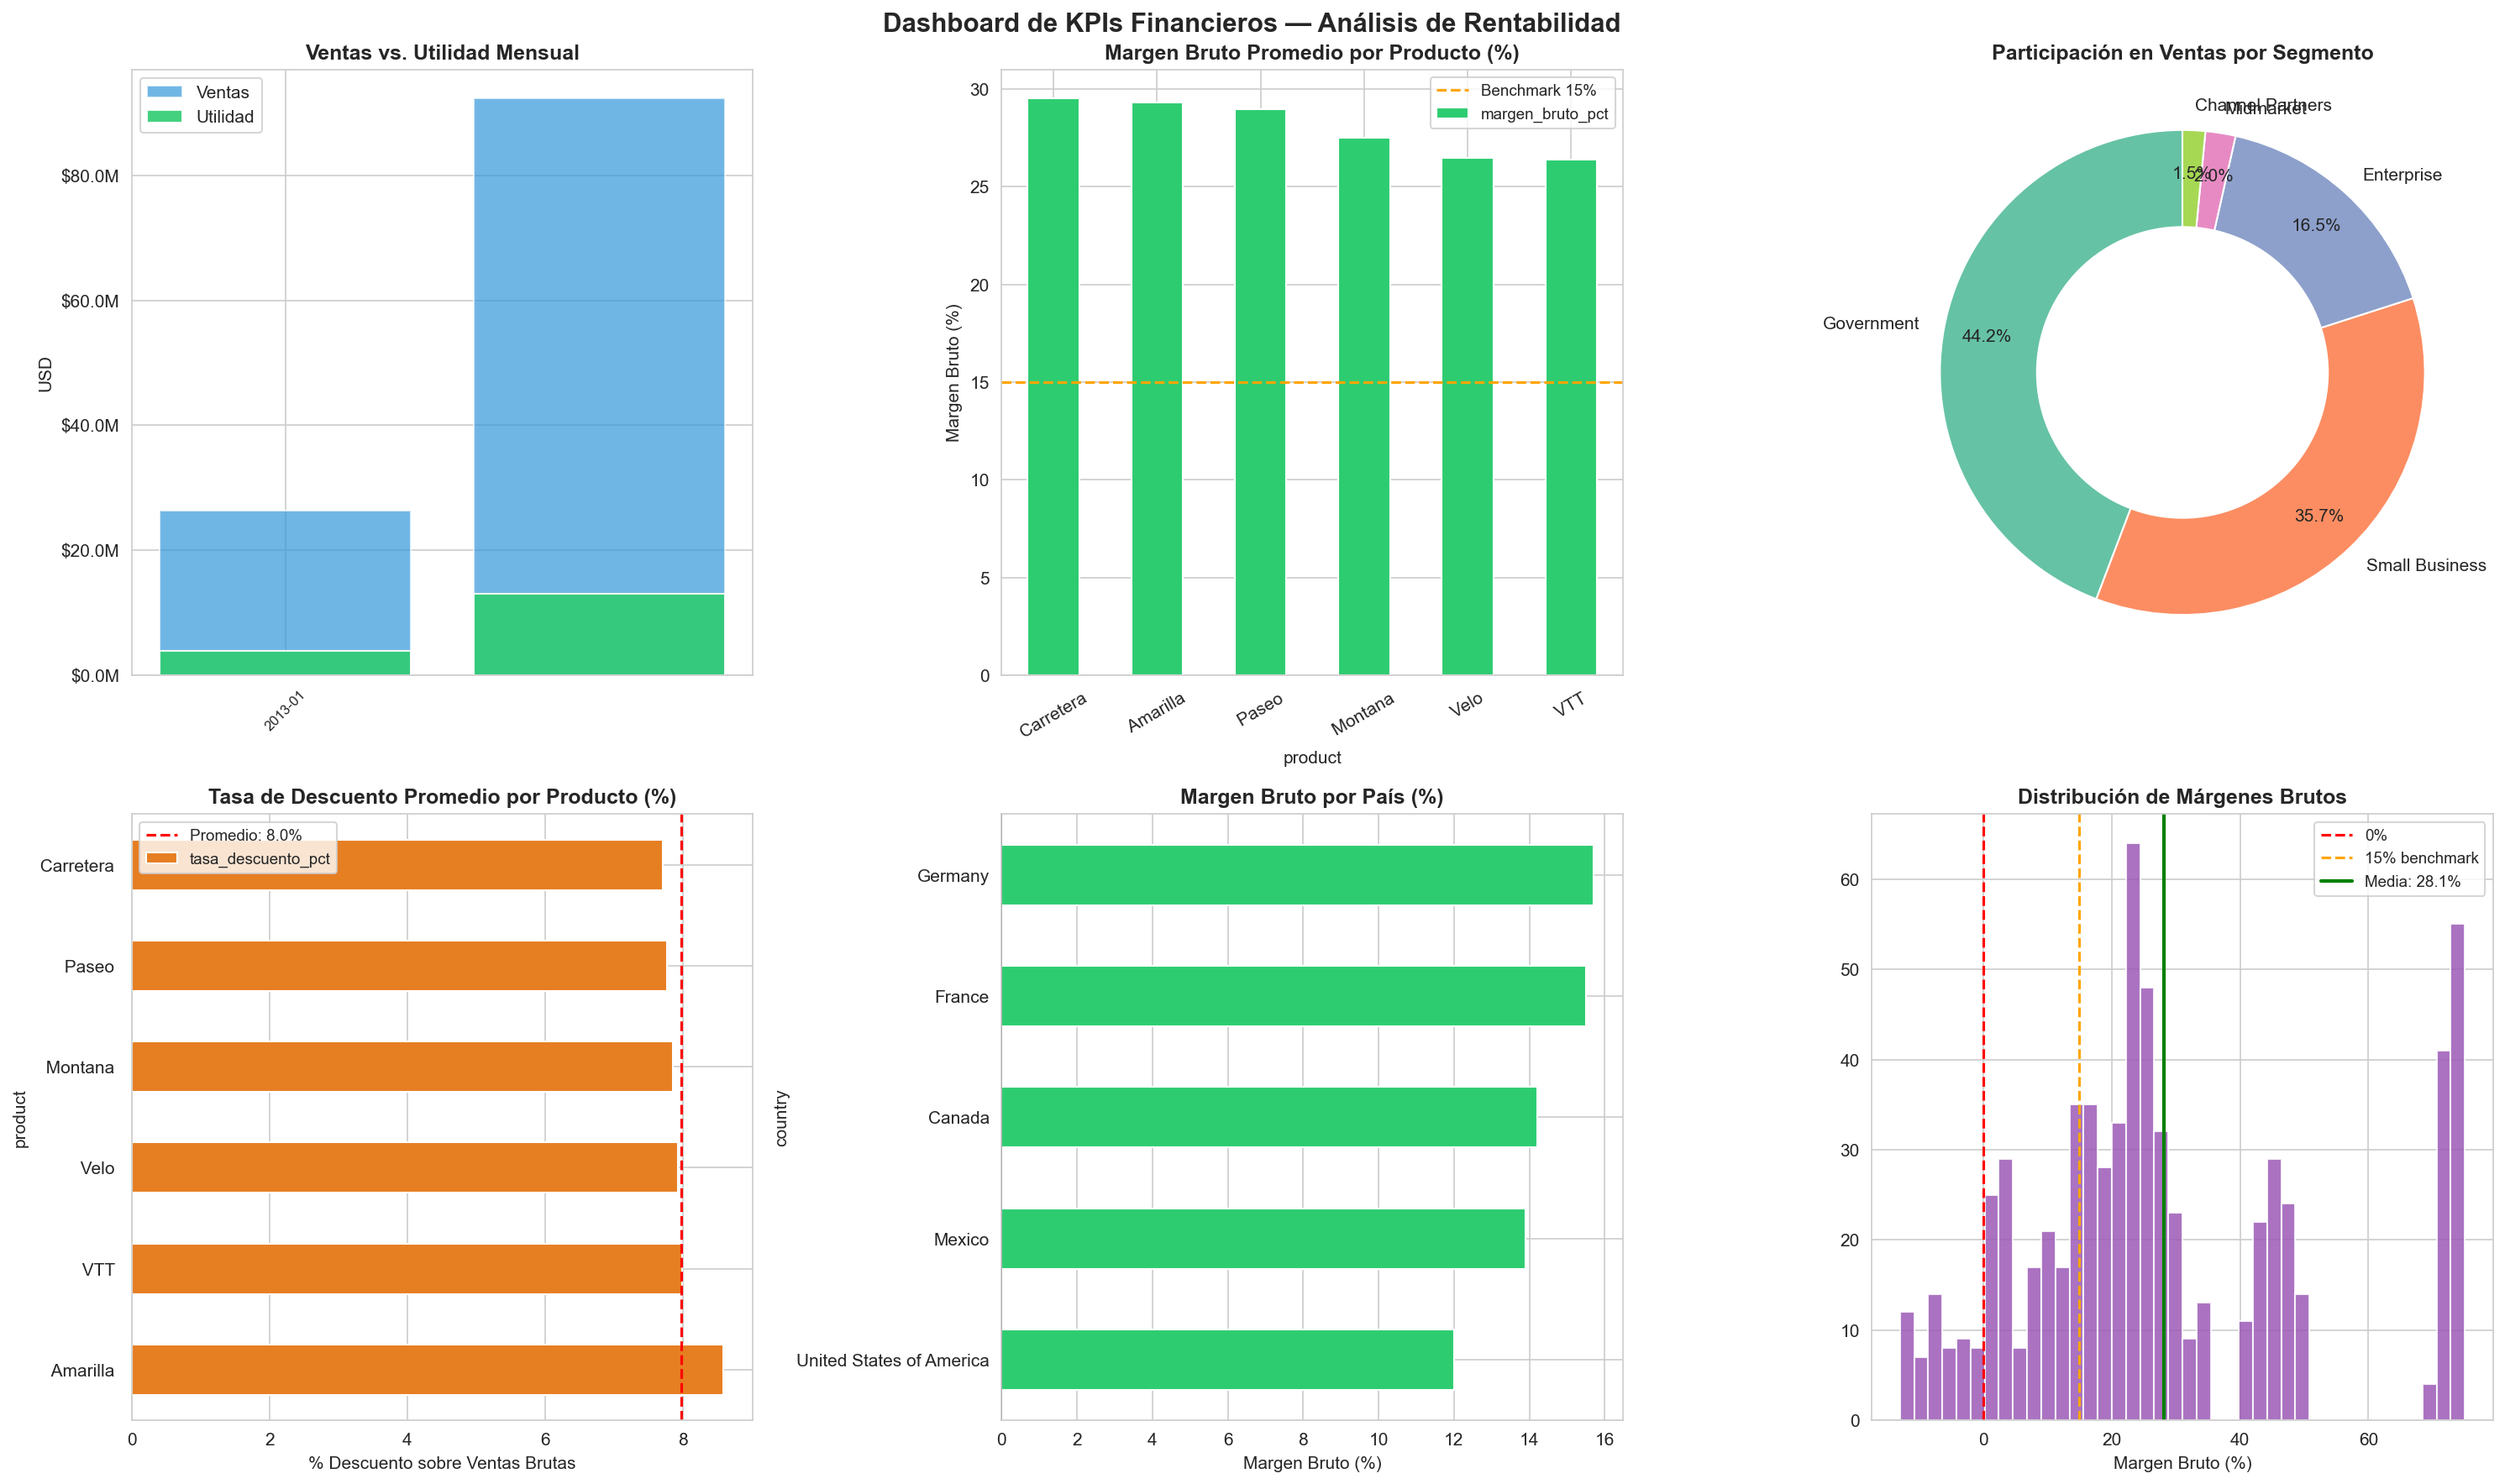

What the dashboard file says about the page in this screenshot:
{"tool":"powerbi","page":{"name":"Análisis por Producto","canvas":[1280,720],"ordinal":1},"visuals":[{"type":"textbox","box":[9.7,0,1270.3,62.6],"z":0},{"type":"clusteredBarChart","title":"Margen Bruto Promedio por Producto (%)","fields":{"Y":["Sum(Productos.margen_promedio)"],"Category":["Productos.product"]},"box":[9.7,84.9,353.4,275.5],"z":1000},{"type":"clusteredBarChart","title":"Tasa de Descuento por Producto (%)","fields":{"Category":["Productos.product"],"Y":["Avg(Productos.tasa_descuento_prom)"]},"box":[9.7,386.8,400.7,249],"z":2000},{"type":"scatterChart","title":"Ventas vs. Margen — Productos Estrella","fields":{"Series":["Productos.product"],"X":["Productos.ventas_total"],"Y":["Productos.margen_promedio"],"Size":["CountNonNull(Productos.utilidad_total)"]},"box":[777.7,84.9,502.3,275.5],"z":3000},{"type":"tableEx","fields":{"Values":["Productos.product","Productos.ventas_total","Productos.utilidad_total","Productos.margen_promedio","Productos.tasa_descuento_prom","Productos.transacciones"]},"box":[460.5,396.5,801.4,229.6],"z":4000},{"type":"pieChart","title":"Ventas por segmento","fields":{"Category":["SegPais.segment"],"Y":["Avg(SegPais.ventas)"]},"box":[372.9,84.9,395.1,275.5],"z":4001}]}

Visuals, with their boxes on the page's 1280x720 design canvas (x1, y1, x2, y2). These are canvas units, not pixel positions in the 2505x1484 screenshot, which may show the page scaled, cropped or inside an application window:
textbox: 10 0 1280 63
"Margen Bruto Promedio por Producto (%)" clusteredBarChart: 10 85 363 360
"Tasa de Descuento por Producto (%)" clusteredBarChart: 10 387 410 636
"Ventas vs. Margen — Productos Estrella" scatterChart: 778 85 1280 360
tableEx - Productos.product x Productos.ventas_total: 460 396 1262 626
"Ventas por segmento" pieChart: 373 85 768 360
